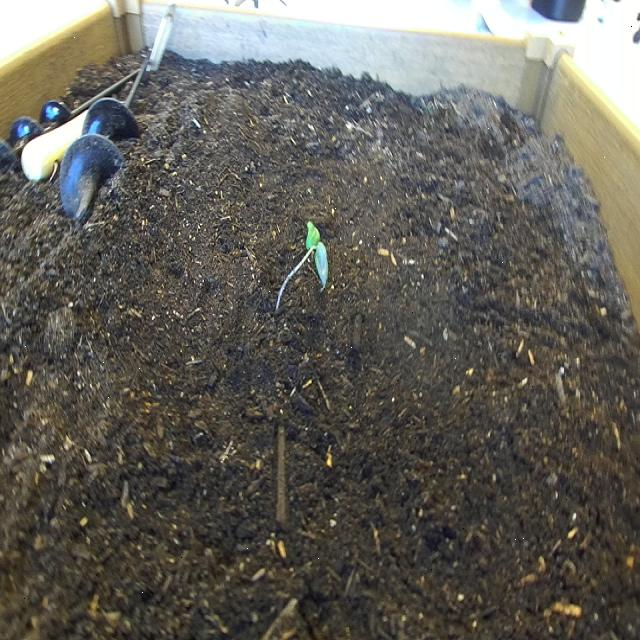Healthy: (272, 215, 332, 320)
